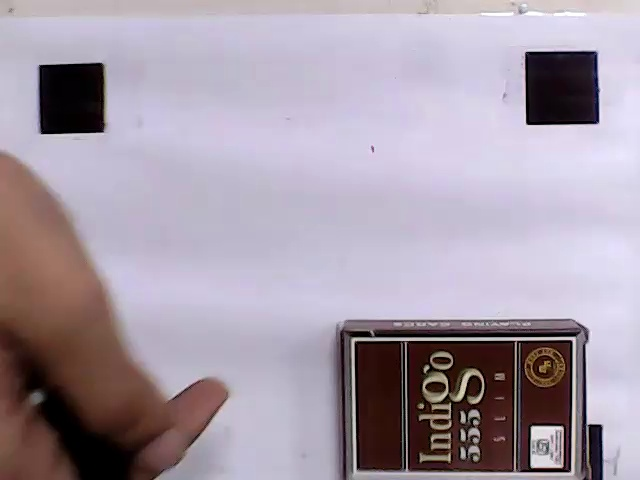BEX: (352, 338, 573, 474)
